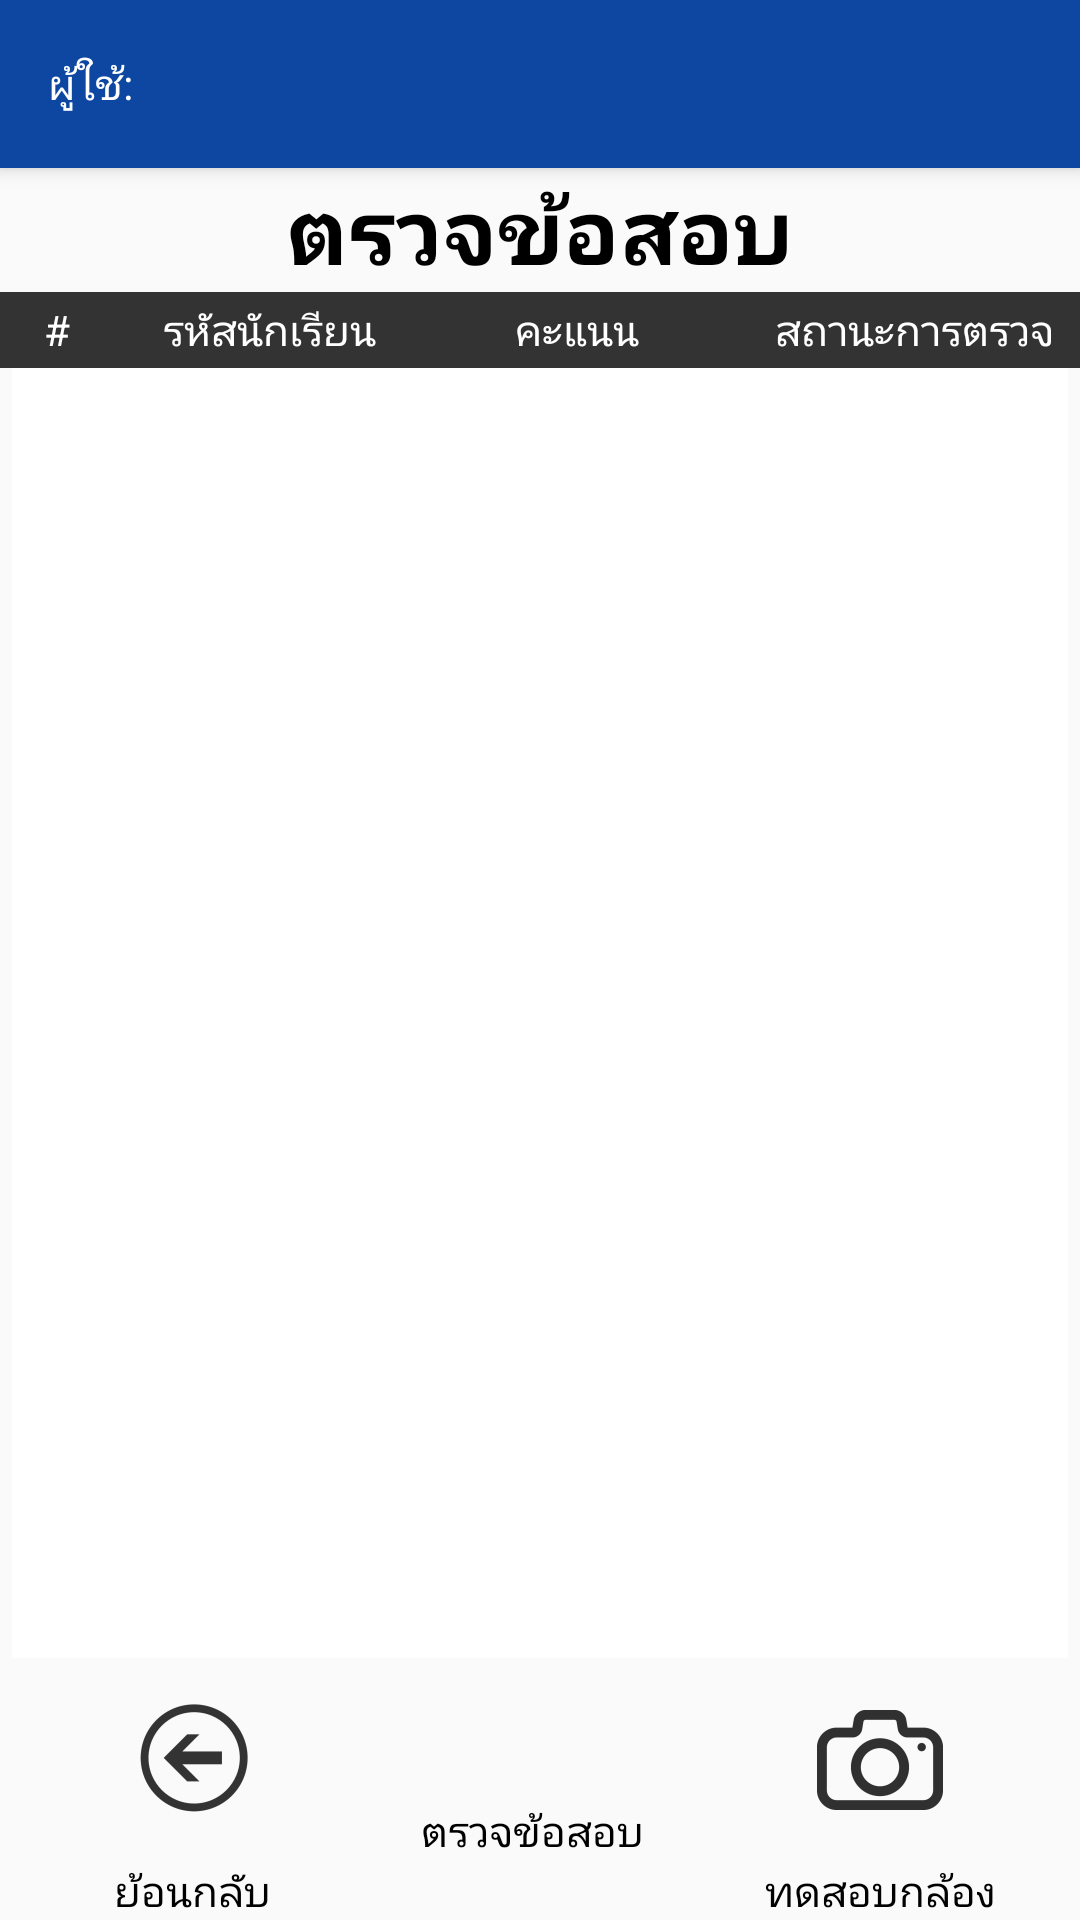

Named icons in this screenshot (1080*1920) and their centers, [x,y]:
camera: [880,1760]
